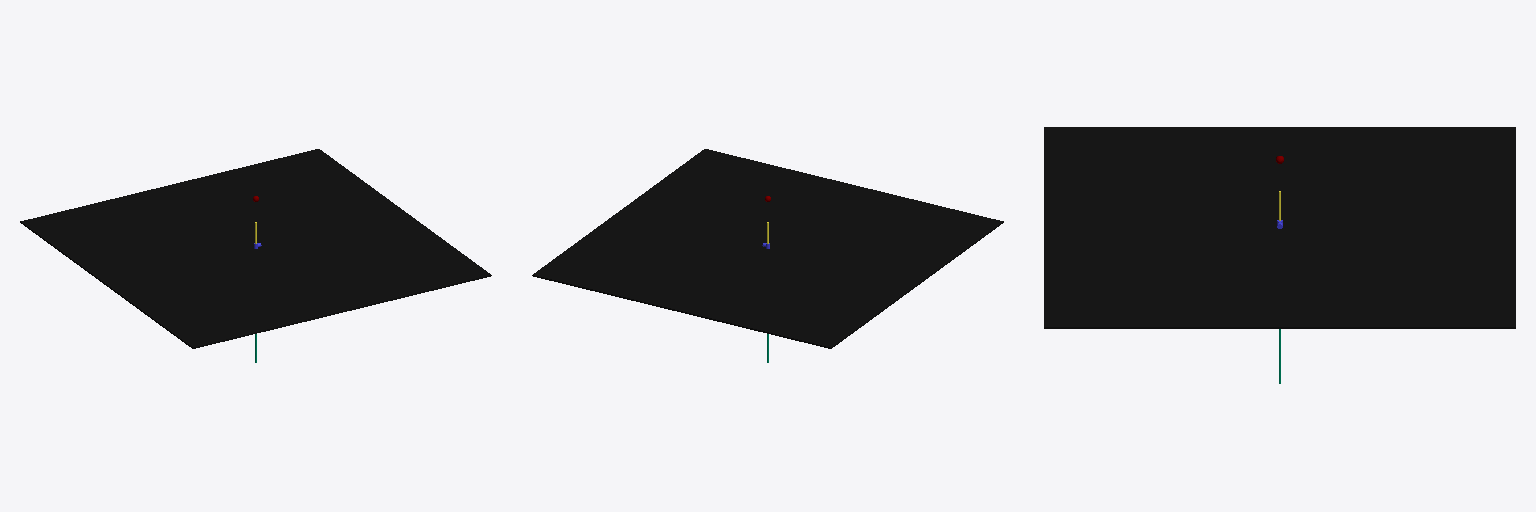
URDF robot description (rprbot):
<?xml version="1.0" ?>

<robot name="rprbot">

    <link name="base_link">
        <inertial>
            <origin xyz="0.0 0.0 0.0" rpy="0 0 0" />
            <mass value="0.01" />
            <inertia ixx="0.0000001" iyy="0.0000001" izz="0.0000001" ixy="0" ixz="0" iyz="0" />
        </inertial>
        <visual>
            <origin xyz="0.0 0.0 -0.1" rpy="0 0 0" />
            <geometry>
                <box size="10 10 0.05" />
            </geometry>
            <material name="material_gray">
                <color rgba="0.1 0.1 0.1 1.0" />
            </material>
        </visual>
    </link>

    <link name="link0">
        <inertial>
            <origin xyz="0.0 0.0 0.0" rpy="0 0 0" />
            <mass value="0.01" />
            <inertia ixx="0.0000001" iyy="0.0000001" izz="0.0000001" ixy="0" ixz="0" iyz="0" />
        </inertial>
        <visual>
            <origin xyz="0.0 0.0 0.0" rpy="0 0 0" />
            <geometry>
                <cylinder radius="0.06" length="0.15"/>
            </geometry>
            <material name="material_blue">
                <color rgba="0.3 0.3 0.9 1.0" />
            </material>
        </visual>
    </link>

    <link name="link1">
        <inertial>
            <origin xyz="0.0 0.0 0.0" rpy="0 0 0" />
            <mass value="0.01" />
            <inertia ixx="0.0000001" iyy="0.0000001" izz="0.0000001" ixy="0" ixz="0" iyz="0" />
        </inertial>
        <visual>
            <origin xyz="0.0 0.0 -2.5" rpy="0 0 0" />
            <geometry>
                <cylinder radius="0.03" length="2.5"/>
            </geometry>
        </visual>
        <visual>
            <origin xyz="0.0 0.0 -0.15" rpy="0 0 0" />
            <geometry>
                <box size="0.1 0.15 0.05"/>
            </geometry>
            <material name="material_blue">
                <color rgba="0.3 0.3 0.9 1.0" />
            </material>
        </visual>
        <visual>
            <origin xyz="0.075 0.0 0.0" rpy="0 -1.57079632679 0" />
            <geometry>
                <cylinder radius="0.06" length="0.15"/>
            </geometry>
            <material name="material_blue">
                <color rgba="0.3 0.3 0.9 1.0" />
            </material>
        </visual>
    </link>

    <link name="link2">
        <inertial>
            <origin xyz="0.0 0.0 2.5" rpy="0 0 0" />
            <mass value="2" />
            <inertia ixx="0.0000001" iyy="0.0000001" izz="0.0000001" ixy="0" ixz="0" iyz="0" />
        </inertial>
        <visual>
            <origin xyz="0.0 0.0 0.0" rpy="0 0 0" />
            <geometry>
                <cylinder radius="0.03" length="1.5"/>
            </geometry>
        </visual>
        <visual>
            <origin xyz="0.0 0.0 1.5" rpy="0 0 0" />
            <geometry>
                <sphere radius="0.09" />
            </geometry>
            <material name="material_red">
		        <color rgba="0.5 0.0 0.0 1.0" />
	        </material>
        </visual>

    </link>
    
    <joint name="j0" type="revolute">
        <parent link="base_link" />
        <child link="link0" />
        <origin xyz="0 0 0" rpy="0 0 0" />
        <axis xyz="0 0 1" />
        <limit lower="-2.967" upper="2.967" effort="176" velocity="1.7104" />
    </joint>

    <joint name="j1" type="prismatic">
        <parent link="link0" />
        <child link="link1" />
        <origin xyz="0 0 0" rpy="0 0 0" />
        <axis xyz="0 0 1" />
        <limit lower="-2.967" upper="2.967" effort="176" velocity="1.7104" />
    </joint>

    <joint name="j2" type="revolute">
        <parent link="link1" />
        <child link="link2" />
        <origin xyz="0 0 0" rpy="0 0 0" />
        <axis xyz="1 0 0" />
        <limit lower="-2.967" upper="2.967" effort="176" velocity="1.7104" />
    </joint>
    
</robot>

--- Facts derived from the render (not from the file) ---
The picture shows the robot from 3 angles, left to right: view 1: azimuth 30°, elevation 25°; view 2: azimuth 150°, elevation 25°; view 3: azimuth 270°, elevation 25°; orthographic projection.
Model rprbot with 4 links and 3 joints (2 revolute, 1 prismatic), rooted at base_link, posed all joints at 0.
Links seen in each view (by area): view 1: base_link; view 2: base_link; view 3: base_link.
Boxes of the visible links, x1,y1,x2,y2 form: base_link: [20, 149, 491, 348]; base_link: [532, 149, 1003, 348]; base_link: [1044, 127, 1515, 328].
Size in the robot's own frame: 10 by 10 by 5.34 metres.
Geometry: primitives only (box / cylinder / sphere), no mesh files.
